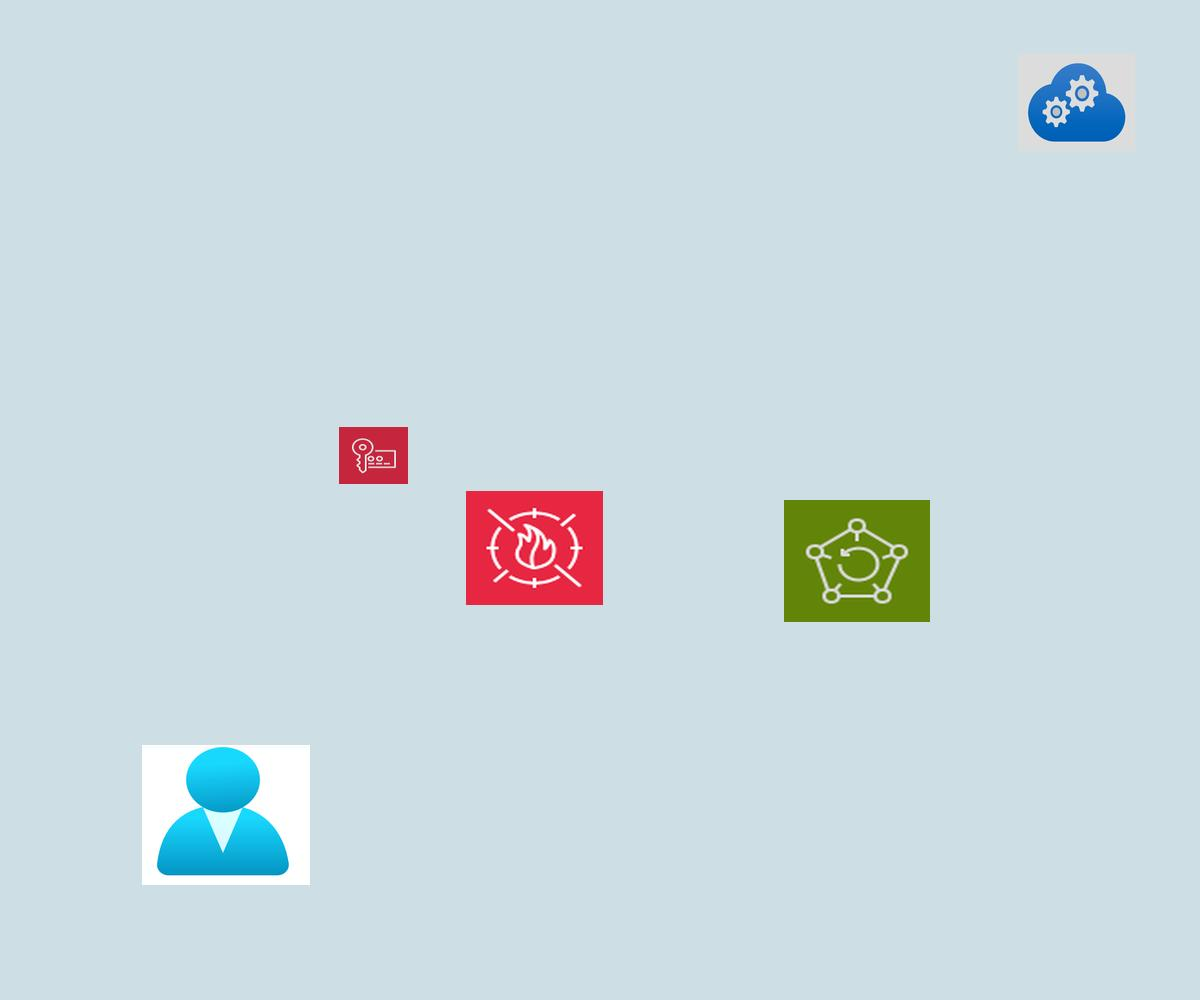AWS-Backup: (784, 500, 930, 622)
AWS-Key-Management-Service: (339, 427, 408, 484)
AWS-WAF: (466, 491, 603, 605)
Azure_cloud_services: (1018, 54, 1135, 151)
Azure_users: (142, 745, 310, 885)
